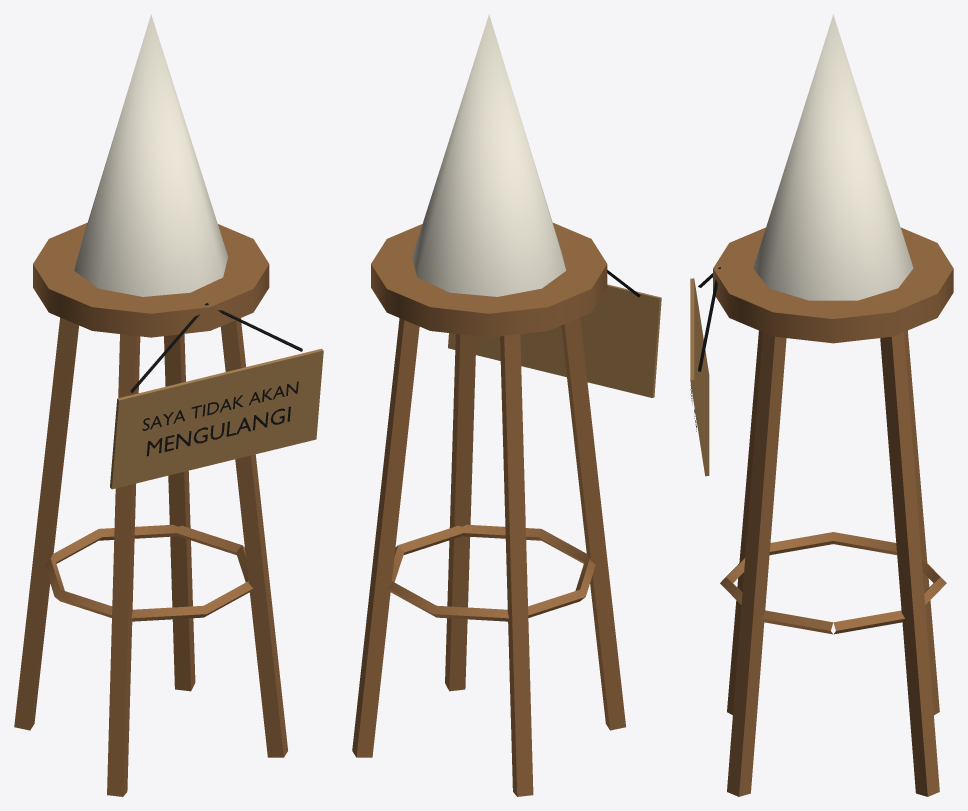
File: punish_stool.glb
3 views of the same model, side by side, from view 1: azimuth 30°, elevation 25°; view 2: azimuth 150°, elevation 25°; view 3: azimuth 270°, elevation 25° (orthographic).
Parts seen in each view (by area): view 1: Stool; view 2: Stool; view 3: Stool.
Part boxes in pixels (x1=…): Stool: x1=14, y1=14, x2=323, y2=796; Stool: x1=352, y1=14, x2=661, y2=796; Stool: x1=690, y1=14, x2=953, y2=796.
Bounding box in the file's own units: 0.36 × 1.22 × 0.3941.
